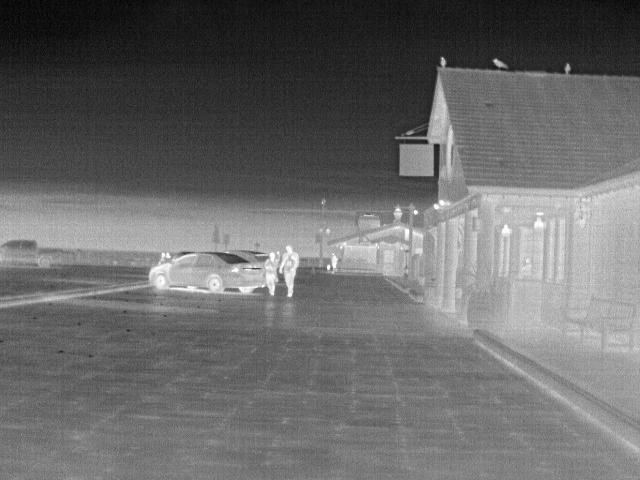car: (146, 250, 268, 294), (0, 238, 67, 267)
person: (281, 243, 300, 295), (265, 248, 281, 295), (329, 251, 340, 273)
